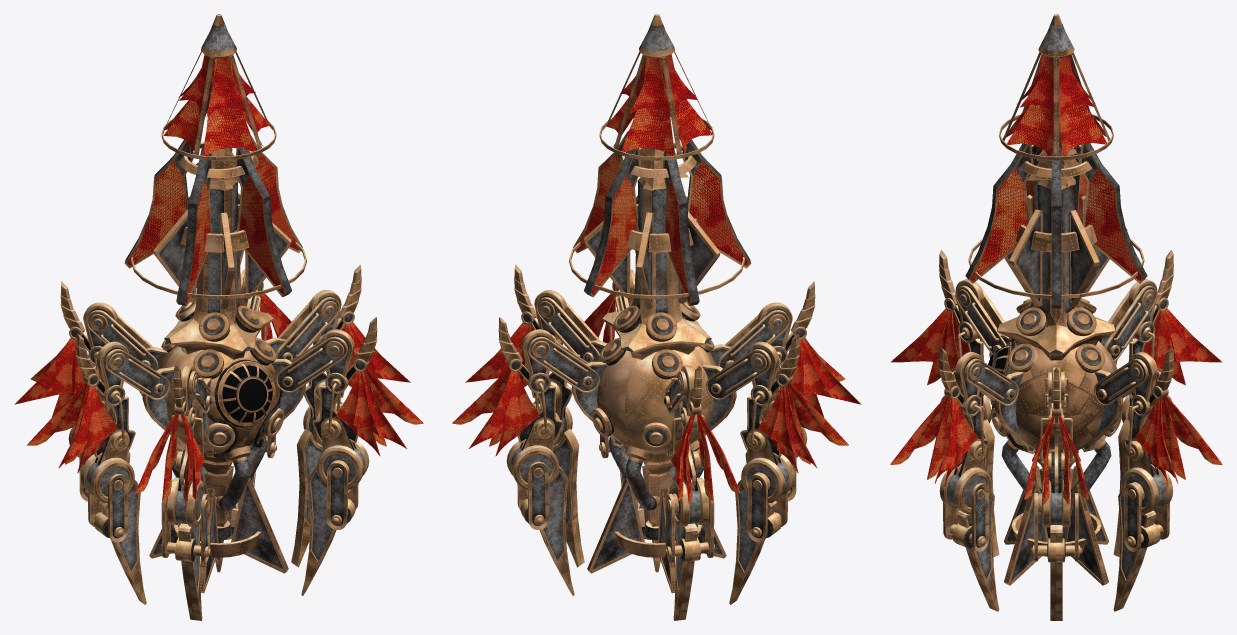
File: rocket.glb
The picture shows the model from 3 angles, left to right: view 1: azimuth 30°, elevation 25°; view 2: azimuth 150°, elevation 25°; view 3: azimuth 270°, elevation 25°; orthographic projection.
Visible parts, largest first — view 1: BodyWheel.010, Leg.002, Leg.004, Leg.003, Leg, Leg.005, Leg.001; view 2: BodyWheel.010, Leg.001, Leg.004, Leg.005, Leg, Leg.003, Leg.002; view 3: BodyWheel.010, Leg.002, Leg.001, Leg, Leg.005, Leg.003.
Boxes of the visible parts, x1,y1,x2,y2 form: BodyWheel.010: (124, 14, 306, 593); Leg.002: (257, 317, 423, 595); Leg.004: (27, 333, 182, 604); Leg.003: (135, 365, 216, 620); Leg: (265, 264, 410, 567); Leg.005: (14, 281, 167, 501); Leg.001: (237, 269, 291, 508); BodyWheel.010: (569, 14, 751, 593); Leg.001: (452, 317, 623, 595); Leg.004: (698, 333, 848, 604); Leg.005: (663, 365, 740, 620); Leg: (465, 264, 607, 567); Leg.003: (709, 281, 861, 501); Leg.002: (584, 269, 638, 508); BodyWheel.010: (965, 14, 1147, 585); Leg.002: (890, 347, 1035, 611); Leg.001: (1082, 347, 1222, 611); Leg: (1024, 367, 1088, 620); Leg.005: (1100, 250, 1222, 557); Leg.003: (890, 250, 1011, 557).
Bounding box in the file's own units: 34.66 × 53.48 × 28.35.
Materials: 2 (2 with a texture image).
